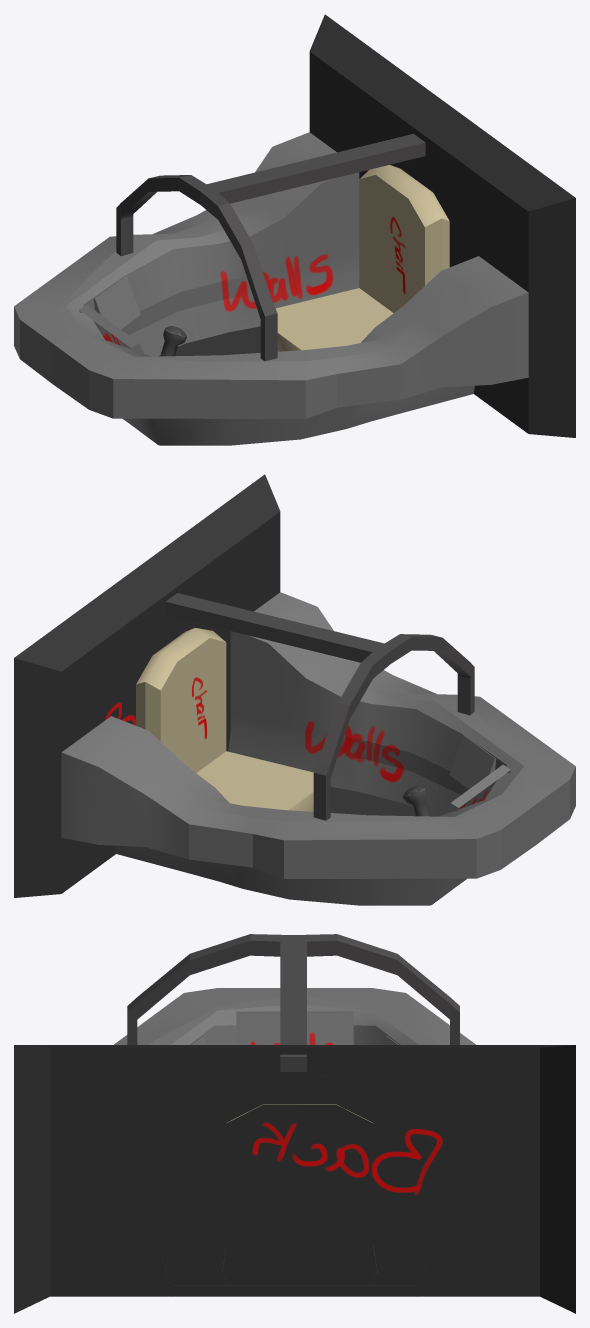
The model's file is cockpit.FBX.
3 views of the same model, one above another, from view 1: azimuth 30°, elevation 25°; view 2: azimuth 150°, elevation 25°; view 3: azimuth 270°, elevation 25° (orthographic). The views are drawn at different scales.
Parts seen in each view (by area): view 1: CockpitWalls, CockpitSupports, Seat; view 2: CockpitWalls, CockpitSupports, Seat; view 3: CockpitSupports, CockpitWalls.
Part boxes in pixels (left/top/right/bottom): CockpitWalls: left=14, top=132, right=528, bottom=445; CockpitSupports: left=116, top=14, right=575, bottom=437; Seat: left=275, top=165, right=449, bottom=351; CockpitWalls: left=61, top=592, right=575, bottom=905; CockpitSupports: left=14, top=474, right=474, bottom=897; Seat: left=136, top=628, right=313, bottom=811; CockpitSupports: left=14, top=934, right=575, bottom=1313; CockpitWalls: left=114, top=988, right=475, bottom=1269.
Bounding box in the file's own units: 5.24 × 3.03 × 5.74.
